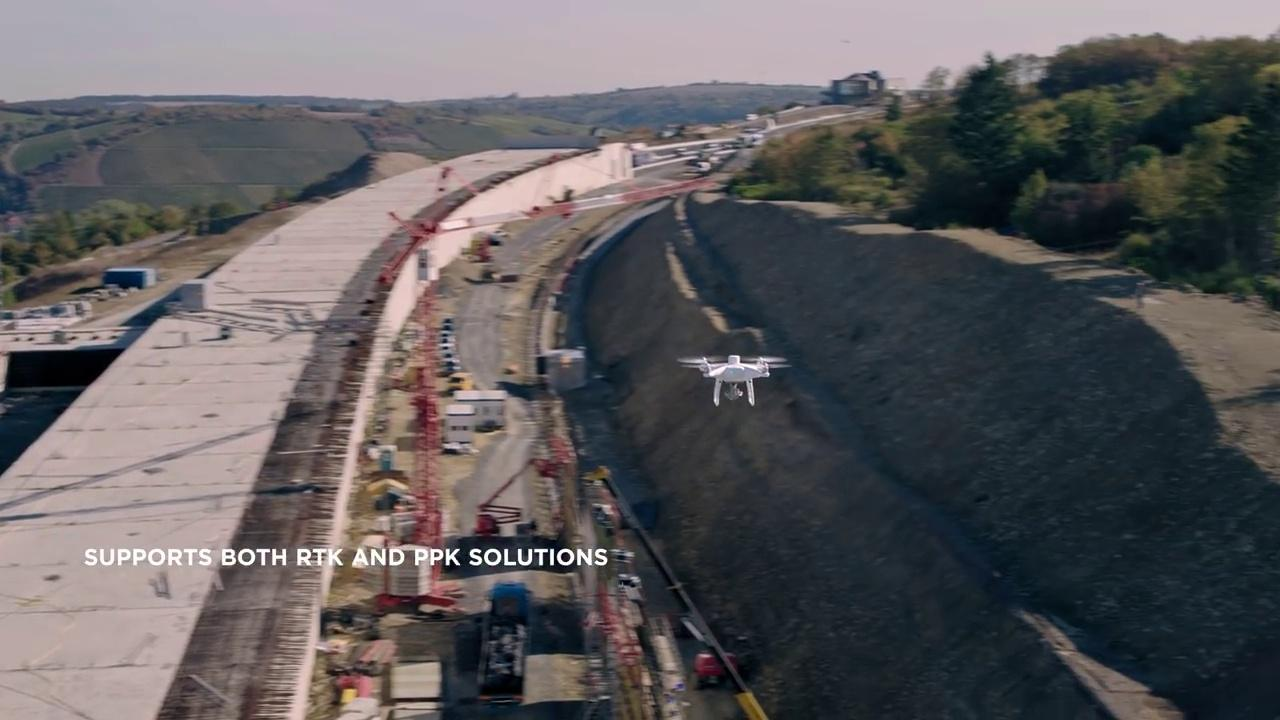drone: (672, 350, 796, 408)
